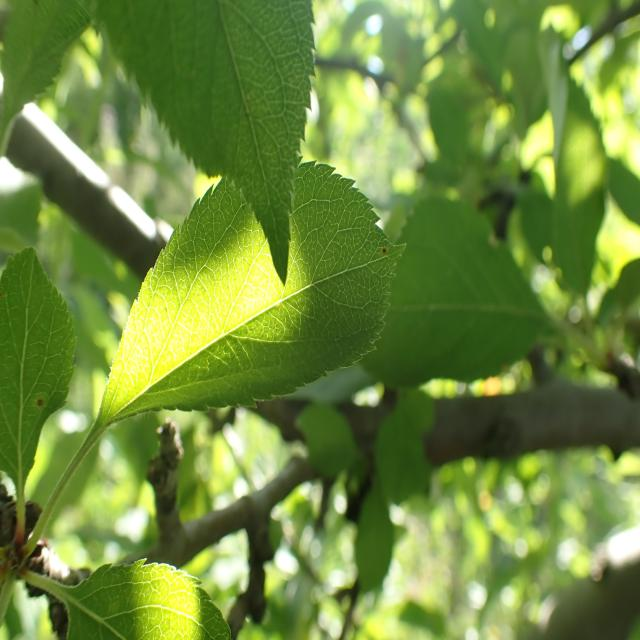healthy: (98, 158, 406, 426), (94, 0, 316, 286), (358, 190, 560, 388), (0, 245, 77, 489), (0, 0, 92, 154), (67, 557, 233, 640)
